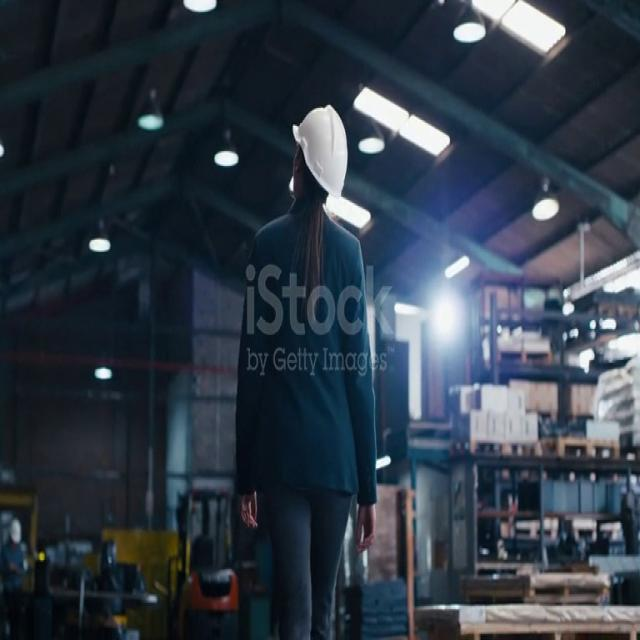capacete: (284, 104, 361, 213)
